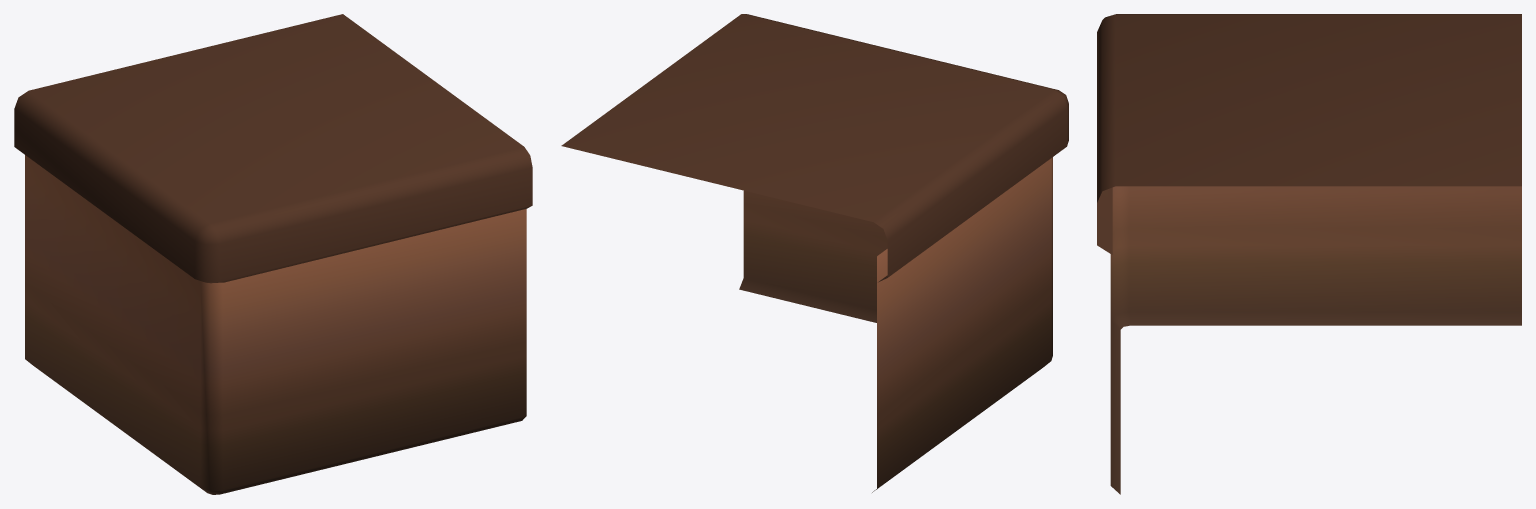
The model's file is OldGround1_3.fbx.
3 views of the same model, side by side, from view 1: azimuth 30°, elevation 25°; view 2: azimuth 150°, elevation 25°; view 3: azimuth 270°, elevation 25° (orthographic). The views are drawn at different scales.
Parts seen in each view (by area): view 1: OldGround1_3; view 2: OldGround1_3; view 3: OldGround1_3.
Part boxes in pixels (x1,y1,x2,y2): OldGround1_3: (14,14,532,494); OldGround1_3: (561,14,1068,492); OldGround1_3: (1097,14,1521,494).
Size of the model in its own units: 400 by 321 by 400.
